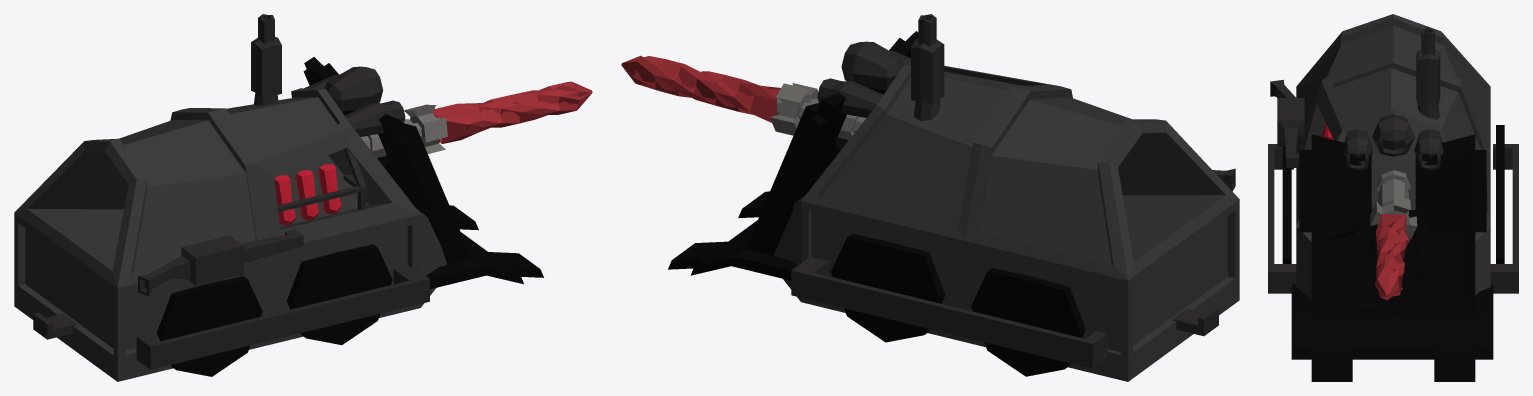
The model's file is train_new.fbx.
The picture shows the model from 3 angles, left to right: view 1: azimuth 30°, elevation 25°; view 2: azimuth 150°, elevation 25°; view 3: azimuth 270°, elevation 25°; orthographic projection. The views are drawn at different scales.
Visible parts, largest first — view 1: train_body, train_misc, train_wheels, train_shield, train_drill, train_cylinders, train_drillbase; view 2: train_body, train_misc, train_wheels, train_shield, train_drill, train_drillbase; view 3: train_shield, train_body, train_misc, train_drill, train_wheels, train_drillbase.
Boxes of the visible parts, bbox=[...] form: train_body: bbox=[14, 88, 447, 381]; train_misc: bbox=[33, 14, 429, 369]; train_wheels: bbox=[156, 244, 392, 376]; train_shield: bbox=[303, 57, 543, 289]; train_drill: bbox=[433, 81, 592, 143]; train_cylinders: bbox=[274, 164, 341, 225]; train_drillbase: bbox=[360, 104, 447, 157]; train_body: bbox=[773, 65, 1239, 381]; train_misc: bbox=[791, 14, 1235, 368]; train_wheels: bbox=[831, 233, 1085, 376]; train_shield: bbox=[668, 31, 918, 280]; train_drill: bbox=[621, 55, 780, 122]; train_drillbase: bbox=[770, 83, 865, 140]; train_shield: bbox=[1291, 134, 1493, 381]; train_body: bbox=[1296, 14, 1490, 298]; train_misc: bbox=[1268, 27, 1518, 293]; train_drill: bbox=[1374, 214, 1409, 299]; train_wheels: bbox=[1282, 125, 1504, 263]; train_drillbase: bbox=[1370, 170, 1417, 239].
Bounding box in the file's own units: 217 × 103 × 91.5.
